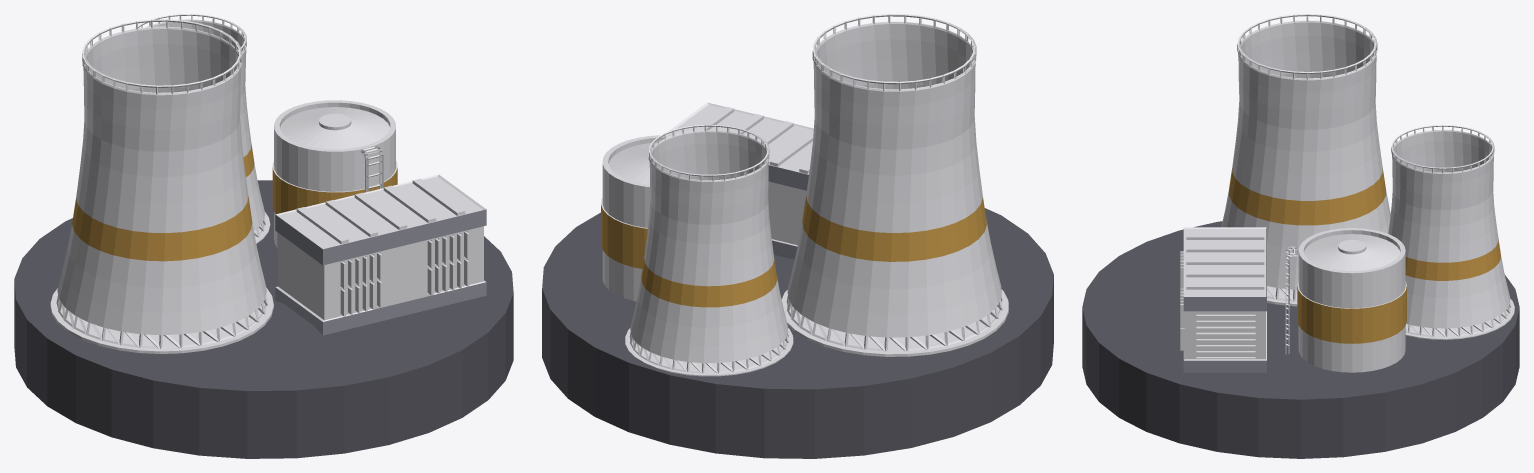
Rendered from nuclear_game1.glb.
3 renders of one model, left to right at view 1: azimuth 30°, elevation 25°; view 2: azimuth 150°, elevation 25°; view 3: azimuth 270°, elevation 25°, orthographic. The views are drawn at different scales.
Visible parts, largest first — view 1: Cylinder, Cylinder.008, Cube.017, Cylinder.012, Cylinder.009, Cylinder.010, Cylinder.011, Cylinder.006, Cylinder.015, Cylinder.013; view 2: Cylinder, Cylinder.008, Cylinder.011, Cube.017, Cylinder.012, Cylinder.009, Cylinder.010, Cylinder.006, Cylinder.014, Cylinder.015, Cylinder.007; view 3: Cylinder, Cylinder.008, Cylinder.011, Cylinder.012, Cube.017, Cylinder.010, Cylinder.015, Cylinder.014, Cylinder.007, Cylinder.013.
Boxes of the visible parts, bbox=[...] form: Cylinder: bbox=[14, 180, 513, 458]; Cylinder.008: bbox=[57, 29, 266, 335]; Cube.017: bbox=[275, 174, 486, 335]; Cylinder.012: bbox=[272, 100, 397, 248]; Cylinder.009: bbox=[50, 287, 273, 353]; Cylinder.010: bbox=[82, 19, 241, 95]; Cylinder.011: bbox=[153, 21, 265, 230]; Cylinder.006: bbox=[56, 294, 267, 348]; Cylinder.015: bbox=[135, 14, 246, 54]; Cylinder.013: bbox=[361, 146, 383, 192]; Cylinder: bbox=[542, 208, 1053, 458]; Cylinder.008: bbox=[787, 24, 1001, 337]; Cylinder.011: bbox=[630, 132, 788, 363]; Cube.017: bbox=[666, 102, 813, 259]; Cylinder.012: bbox=[601, 135, 671, 301]; Cylinder.009: bbox=[781, 289, 1008, 356]; Cylinder.010: bbox=[812, 14, 976, 91]; Cylinder.006: bbox=[786, 296, 1002, 351]; Cylinder.014: bbox=[625, 328, 793, 376]; Cylinder.015: bbox=[649, 124, 769, 181]; Cylinder.007: bbox=[629, 333, 788, 373]; Cylinder: bbox=[1082, 221, 1519, 458]; Cylinder.008: bbox=[1221, 22, 1390, 289]; Cylinder.011: bbox=[1388, 131, 1510, 328]; Cylinder.012: bbox=[1297, 228, 1406, 372]; Cube.017: bbox=[1180, 227, 1266, 372]; Cylinder.010: bbox=[1237, 14, 1377, 80]; Cylinder.015: bbox=[1391, 125, 1494, 173]; Cylinder.014: bbox=[1405, 299, 1514, 339]; Cylinder.007: bbox=[1405, 302, 1510, 337]; Cylinder.013: bbox=[1285, 246, 1297, 354].
Bounding box in the file's own units: 3.33 × 2.36 × 3.33.
